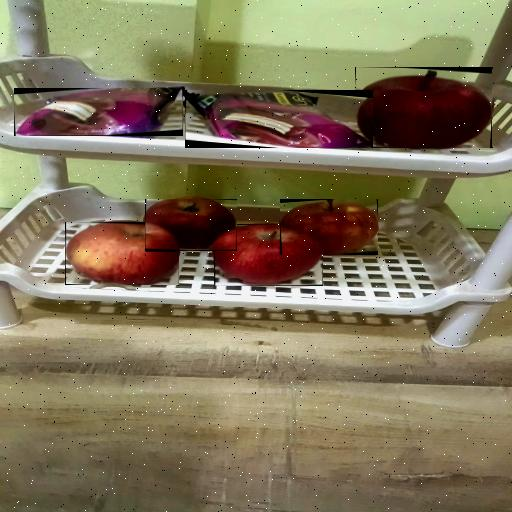Apple: (356, 67, 494, 148), (65, 222, 179, 285), (214, 224, 323, 286), (280, 200, 378, 254), (145, 199, 237, 251)
Choco Pie: (185, 90, 373, 148), (14, 88, 183, 136)
